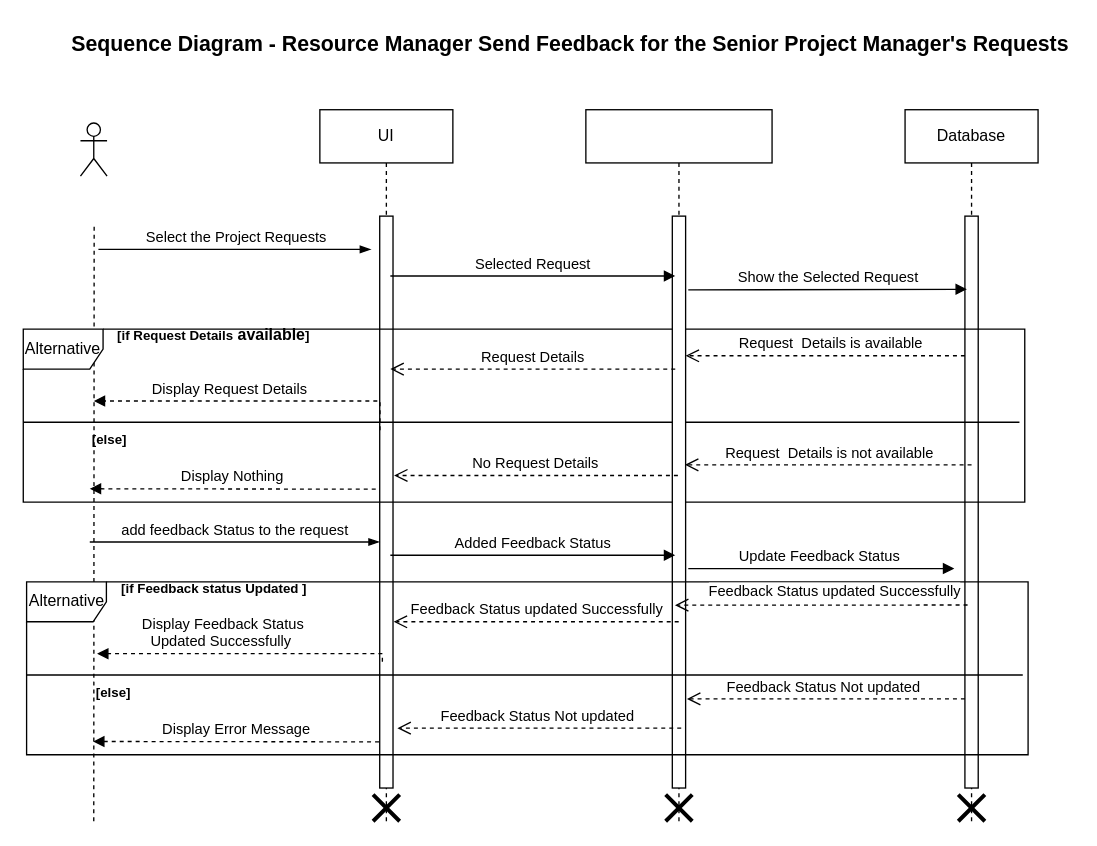
The diagram is 1097 pixels wide and 846 high, and some of its shapes have lost their labels. Each missing label, with the box of its shape:
Resource Manger: (79, 122, 107, 176)
System: (585, 108, 772, 821)
